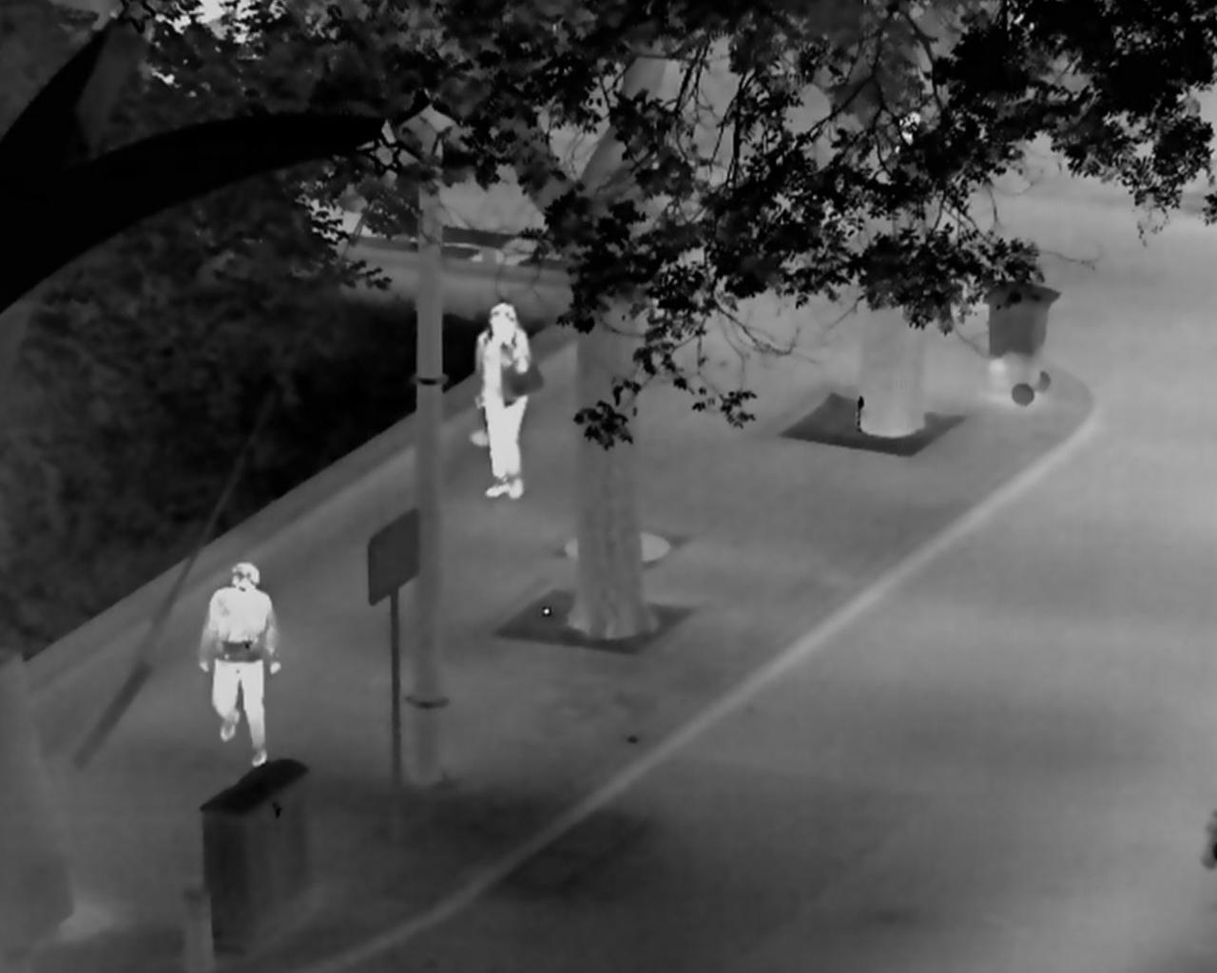person: (198, 562, 280, 765), (473, 301, 543, 499)
